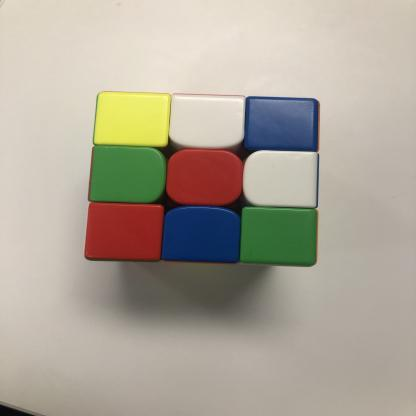UnsolvedCube: (79, 80, 328, 276)
